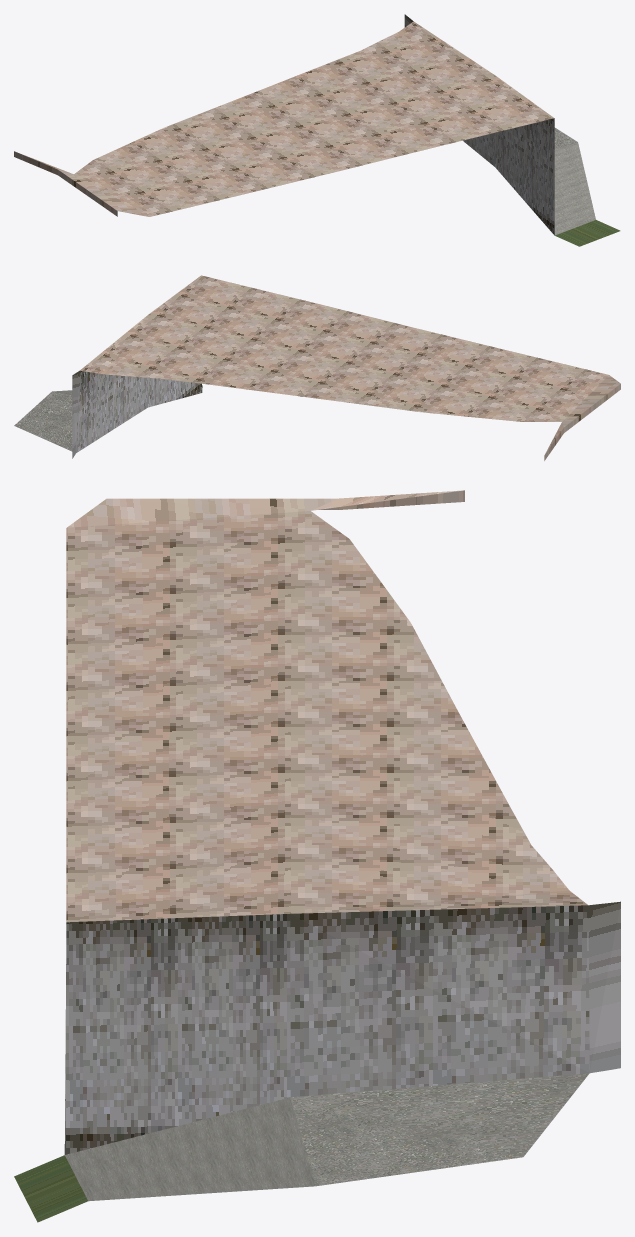
File: lodtbit_04_sfs.obj
3 views of the same model, one above another, from view 1: azimuth 30°, elevation 25°; view 2: azimuth 150°, elevation 25°; view 3: azimuth 270°, elevation 25° (orthographic). The views are drawn at different scales.
Parts seen in each view (by area): view 1: lodtbit_04_SFS; view 2: lodtbit_04_SFS; view 3: lodtbit_04_SFS.
Boxes of the visible parts, box(x1,y1,x2,y2) form: lodtbit_04_SFS: box(14, 14, 620, 246); lodtbit_04_SFS: box(14, 275, 620, 460); lodtbit_04_SFS: box(14, 490, 620, 1222).
Size of the model in its own units: 111 by 25.6 by 55.7.
4 materials, 4 textured.
